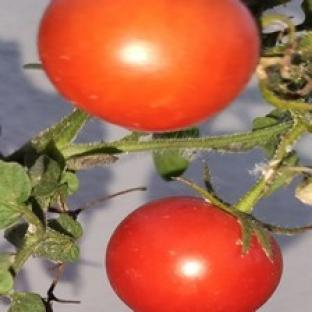Tomato: (106, 197, 282, 311)
